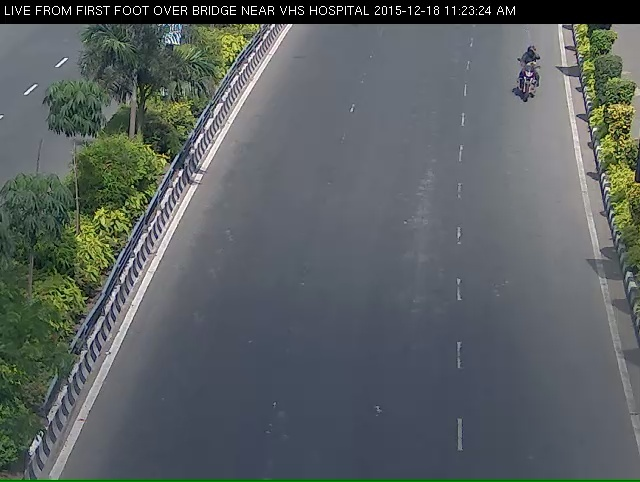Person: (509, 43, 553, 118)
